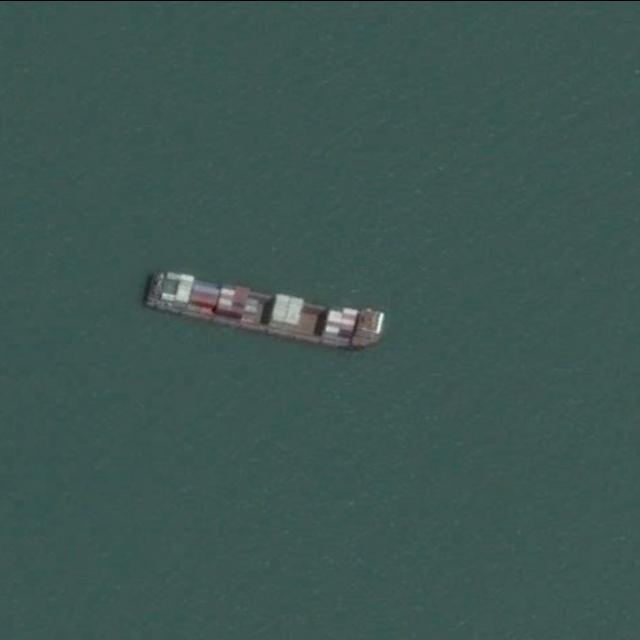ship: (140, 266, 387, 350)
